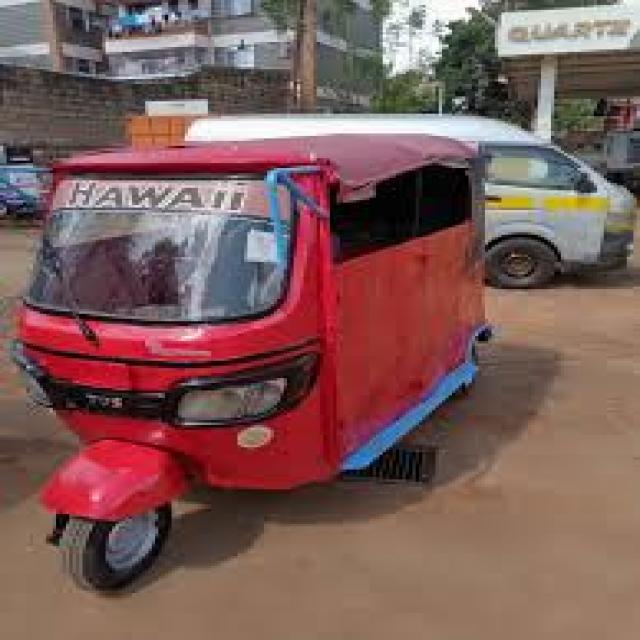tuktuk: (0, 82, 519, 621)
